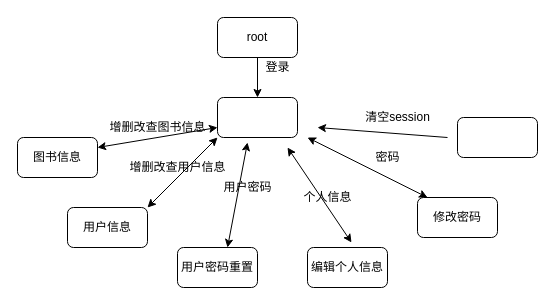
This 555x305 diagram has some shape labels left out. The shapes that lost their labels are listed below. From the top down, each one's centre as x and y in pixels, then its label:
(257,117): 图书管理系统
(497,137): 退出
